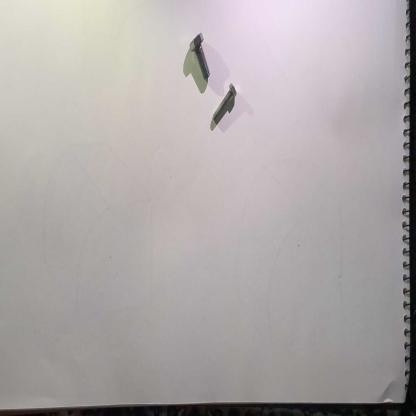Bolts: (208, 77, 240, 140), (187, 28, 214, 86)
